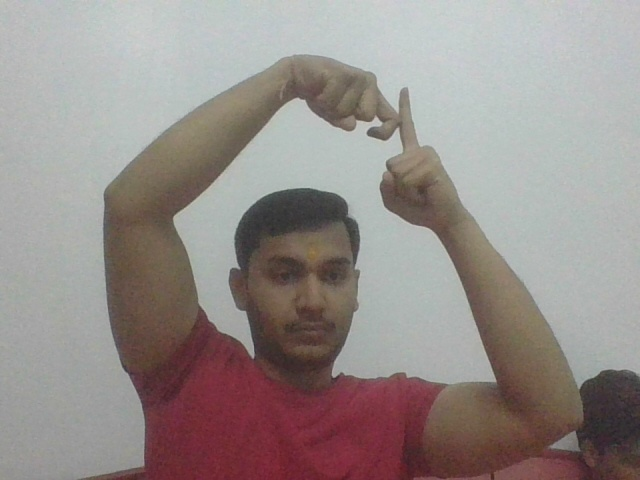K: (356, 71, 440, 167)
